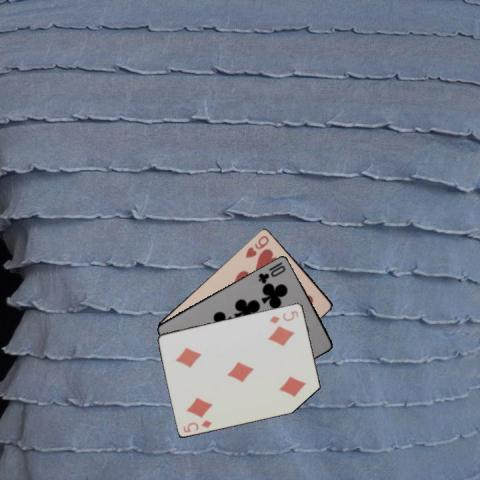10c: (256, 258, 288, 284)
5d: (267, 307, 300, 325), (180, 417, 213, 434)
9h: (243, 232, 270, 259)
